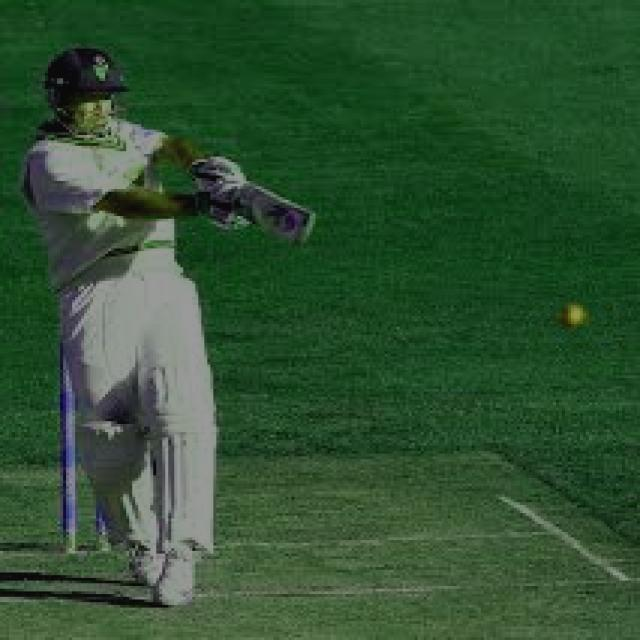toe: (289, 199, 318, 252)
